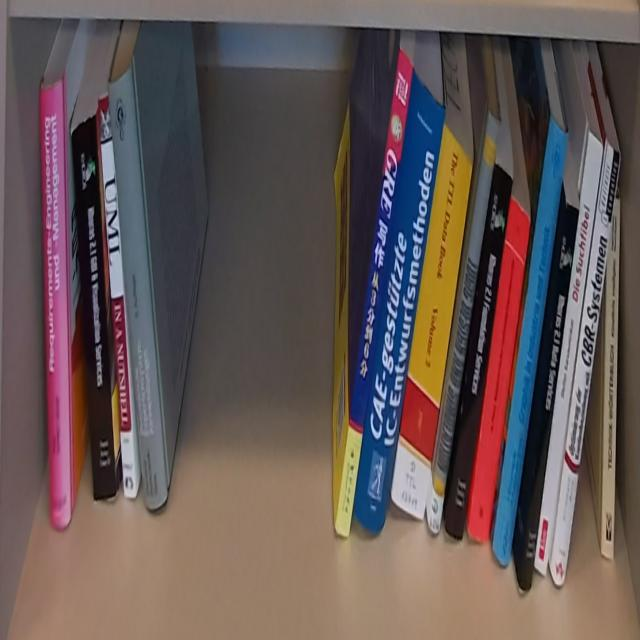Book Spine: (355, 71, 448, 539), (334, 45, 415, 539), (389, 122, 474, 527), (492, 112, 567, 571), (550, 140, 623, 587), (533, 128, 604, 577), (428, 109, 502, 534), (444, 161, 515, 546), (108, 66, 168, 513), (517, 198, 581, 593), (466, 198, 533, 541), (71, 114, 118, 497), (96, 91, 137, 500), (39, 78, 72, 530), (600, 198, 622, 565)
